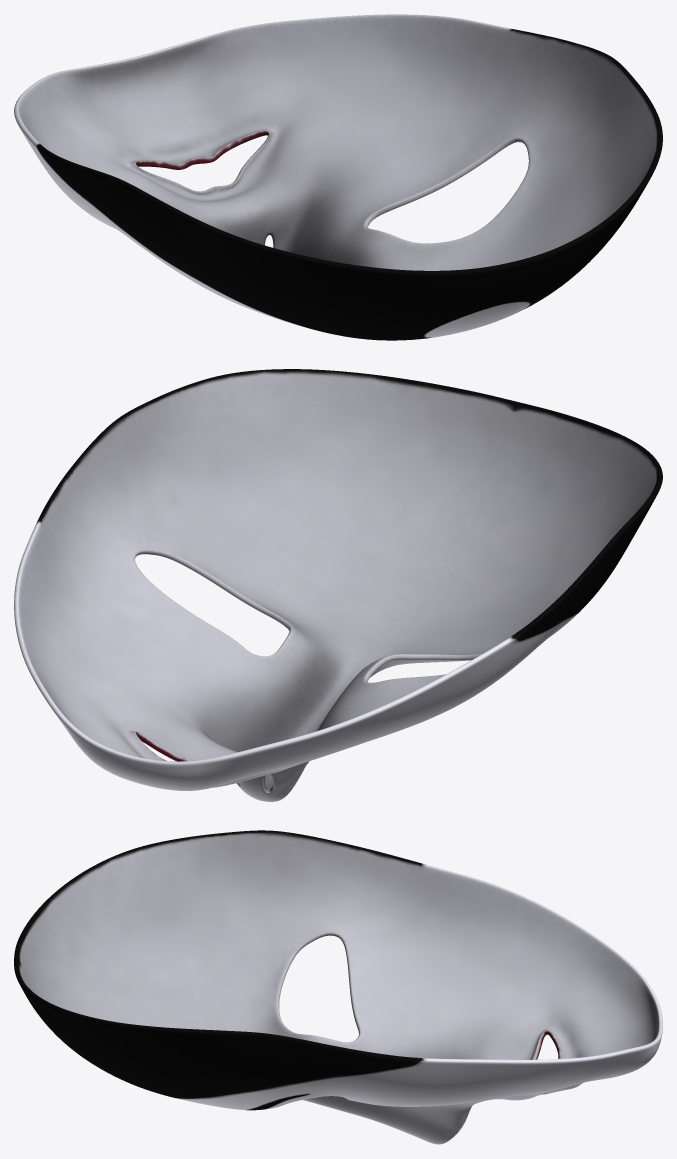
Rendered from 13552_Pierrot_Mask_v1_l3.obj.
The picture shows the model from 3 angles, top to bottom: view 1: azimuth 30°, elevation 25°; view 2: azimuth 150°, elevation 25°; view 3: azimuth 270°, elevation 25°; orthographic projection. The views are drawn at different scales.
Parts seen in each view (by area): view 1: 13552_Pierrot_Mask_v1; view 2: 13552_Pierrot_Mask_v1; view 3: 13552_Pierrot_Mask_v1.
Boxes of the visible parts, bbox=[...] form: 13552_Pierrot_Mask_v1: bbox=[14, 14, 662, 340]; 13552_Pierrot_Mask_v1: bbox=[14, 369, 662, 801]; 13552_Pierrot_Mask_v1: bbox=[14, 830, 662, 1144].
Bounding box in the file's own units: 22.5 × 10.62 × 29.78.
1 material, 1 textured.
